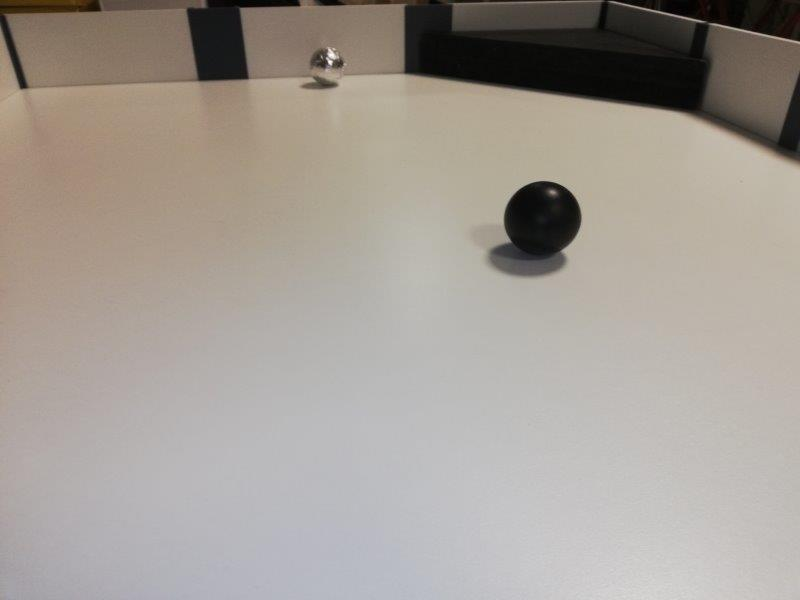bianca: (306, 42, 344, 85)
nera: (504, 176, 583, 261)
